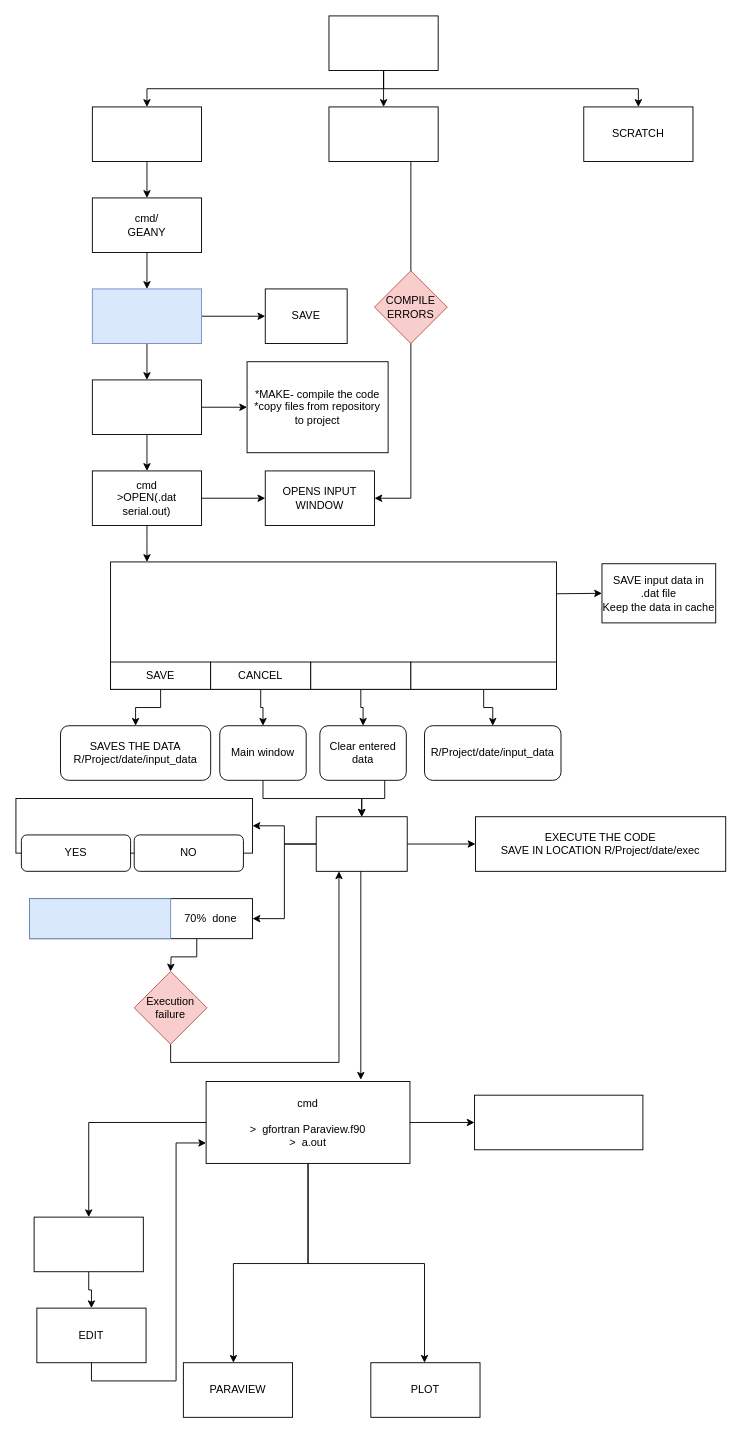
The diagram is 742 pixels wide and 1433 high, and some of its shapes have lost their labels. Here are the shapes that lost their labels. From the top down, the box of each, then its label:
(328, 15, 438, 71): REPOSITORY
(91, 106, 202, 162): SOURCE CODE
(328, 106, 438, 162): INPUT
(91, 288, 202, 344): GEANY EDITOR
(91, 379, 202, 435): cmd >MAKE
(310, 661, 411, 689): RESET
(410, 661, 556, 689): LOAD PREVIOUS
(15, 798, 253, 853): Do you want to save in another location?
(315, 816, 407, 871): cmd >./serial.out
(474, 1094, 643, 1150): SAVE IN R/Project/date/output/vtk
(33, 1216, 143, 1272): cmd > Geany
